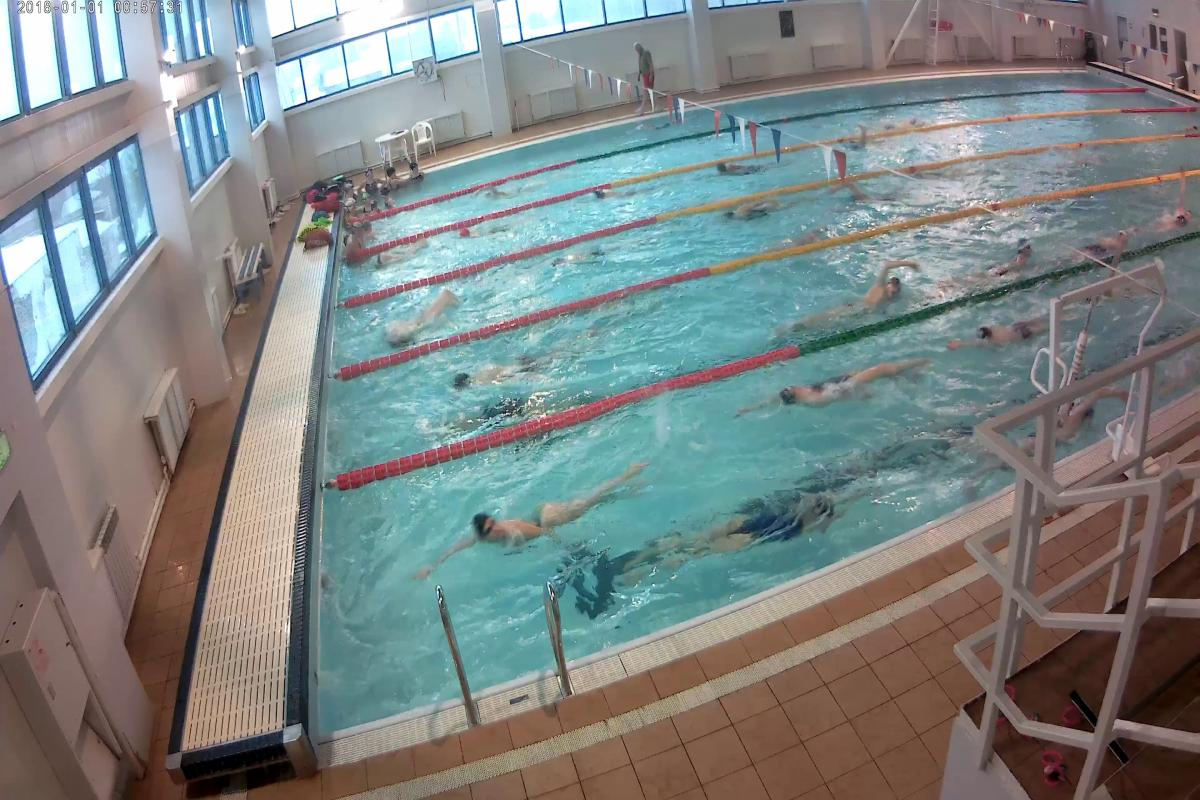swimmer: (430, 462, 654, 564), (748, 356, 920, 430), (709, 488, 843, 553), (818, 250, 919, 323), (374, 290, 462, 350), (938, 314, 1040, 357), (442, 357, 552, 396), (1150, 186, 1196, 238), (1074, 219, 1131, 260), (988, 233, 1039, 278), (553, 244, 621, 272), (719, 197, 785, 225), (369, 244, 426, 276), (709, 158, 775, 182), (583, 184, 639, 209), (453, 225, 516, 245)
